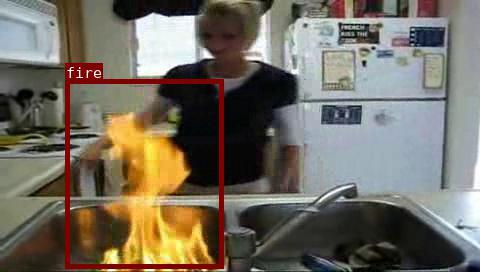fire: (64, 78, 222, 268)
